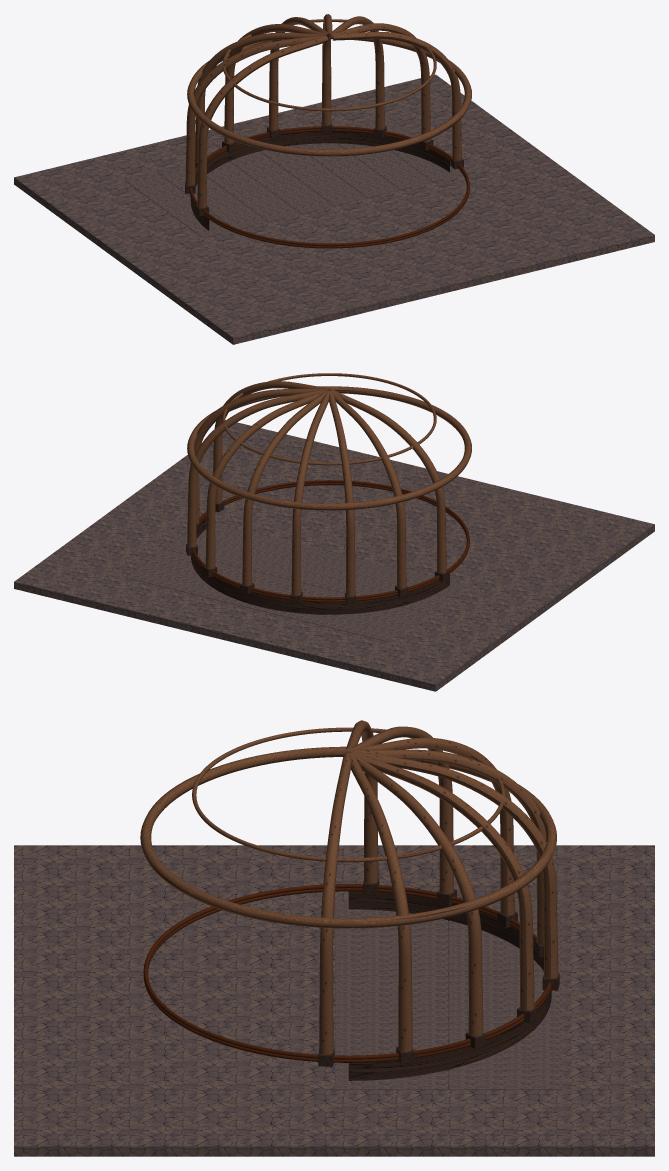
File: observatory.glb
3 renders of one model, top to bottom at view 1: azimuth 30°, elevation 25°; view 2: azimuth 150°, elevation 25°; view 3: azimuth 270°, elevation 25°, orthographic. The views are drawn at different scales.
Parts seen in each view (by area): view 1: observatory; view 2: observatory; view 3: observatory.
Boxes of the visible parts, <box> form: observatory: <box>14,14,654,344</box>; observatory: <box>14,373,654,691</box>; observatory: <box>14,720,654,1156</box>.
Size of the model in its own units: 10 by 3.96 by 9.
Materials: 5 (5 with a texture image).
